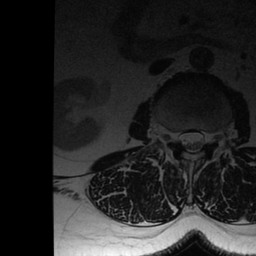CCS_normal: (187, 124, 197, 157)
LFS_normal: (206, 127, 215, 151)
LLS_normal: (196, 125, 205, 152)
RFS_normal: (167, 125, 178, 148)
RLS_normal: (178, 125, 187, 152)
